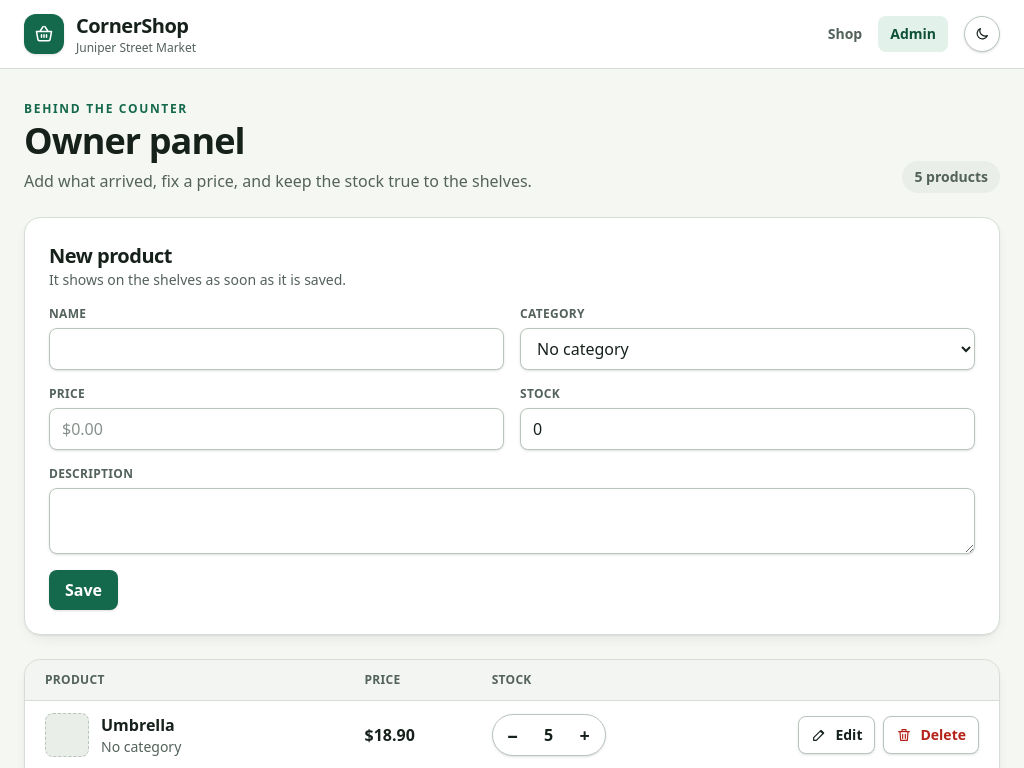
Scenario: the owner panel › asks before removing a product, and removes it once confirmed
Click the button with aria-label "Delete Umbrella".
click(931, 735)  # box [884, 716, 979, 754]
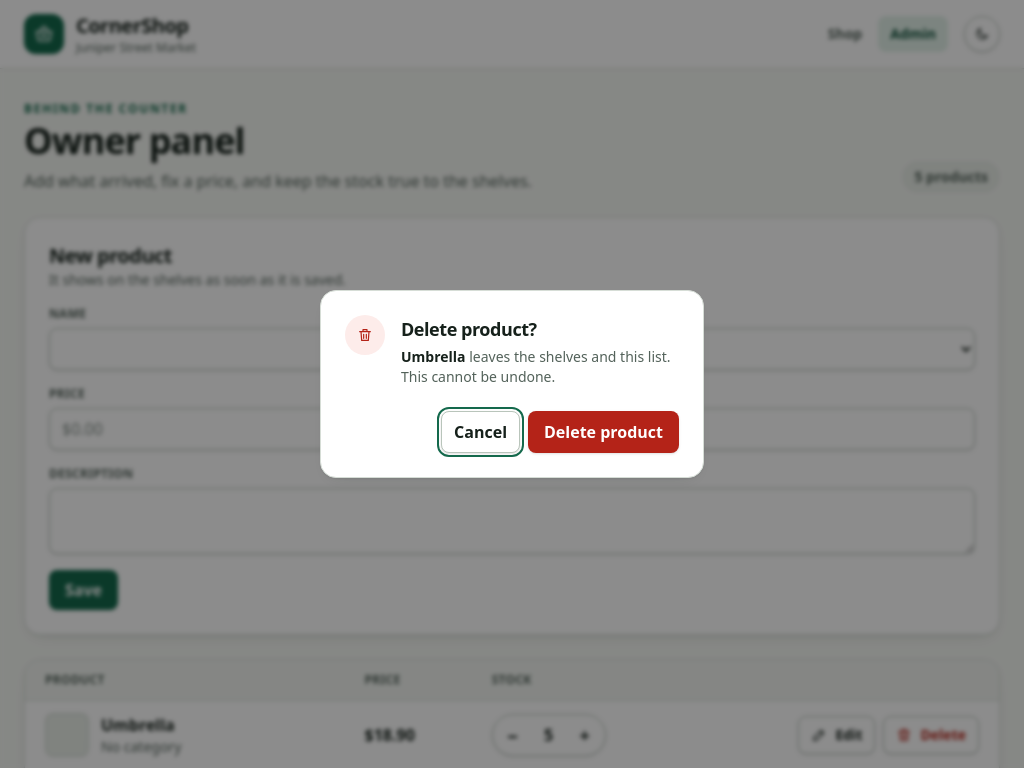
Check: the dialog "Delete product?" shows "Umbrella", box [401, 347, 466, 366]
Click the button "Delete product".
click(604, 432)  # box [528, 411, 679, 453]
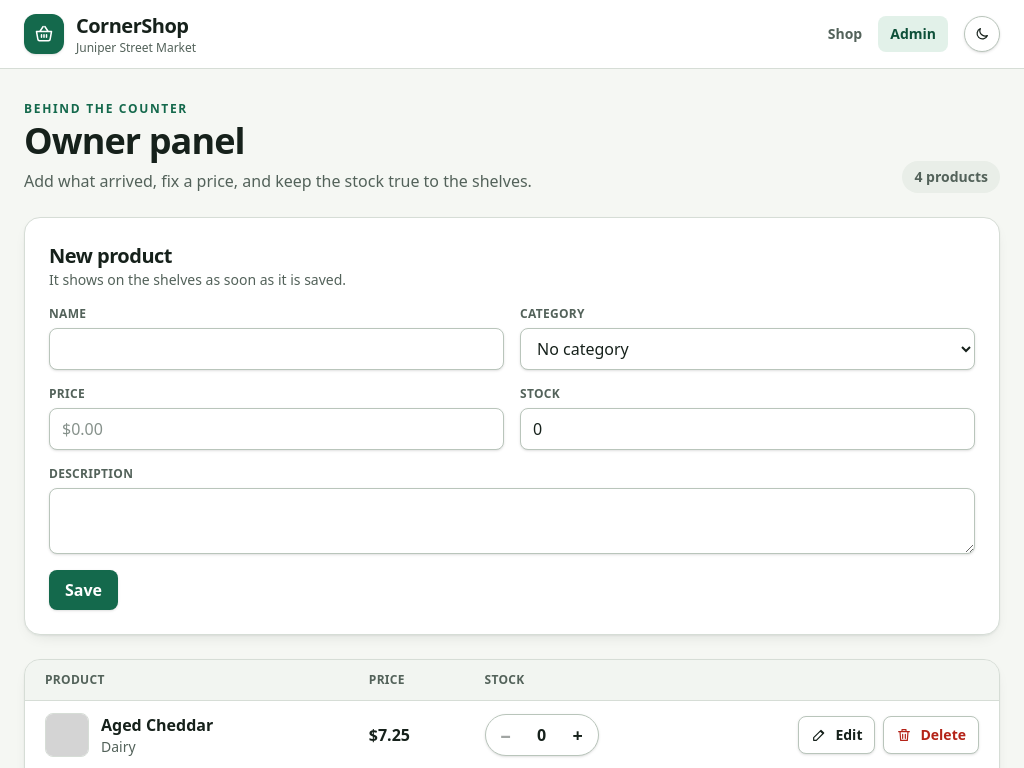
Check: the dialog is gone
